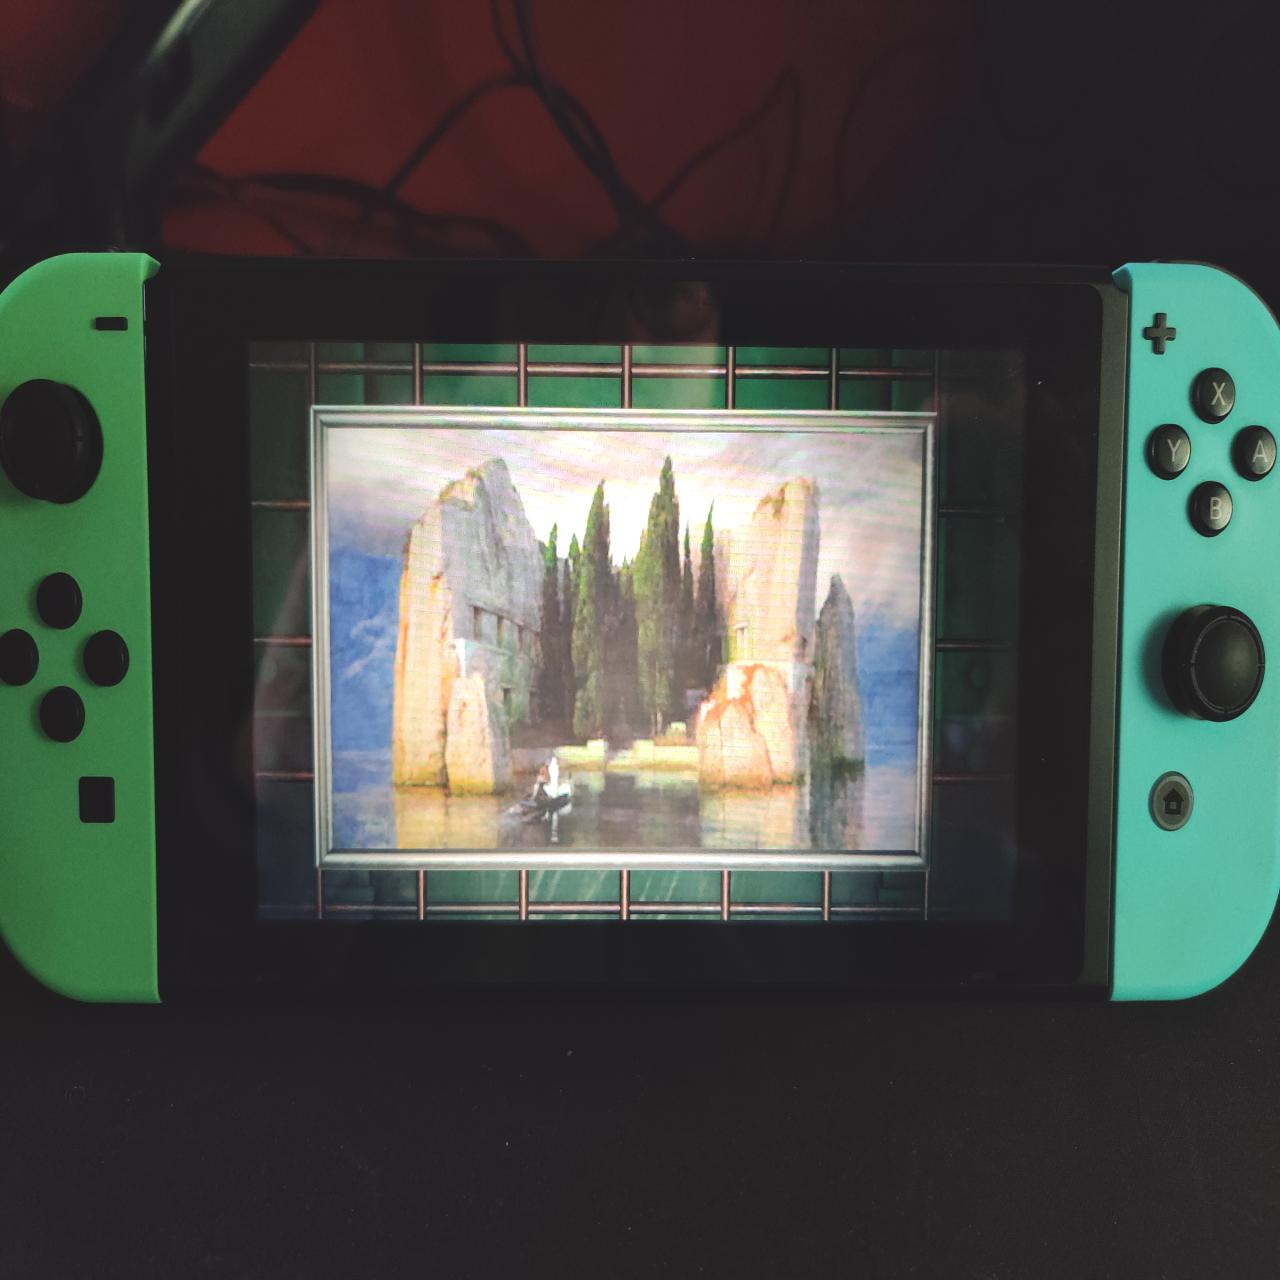IsleOfDead: (328, 424, 924, 862)
